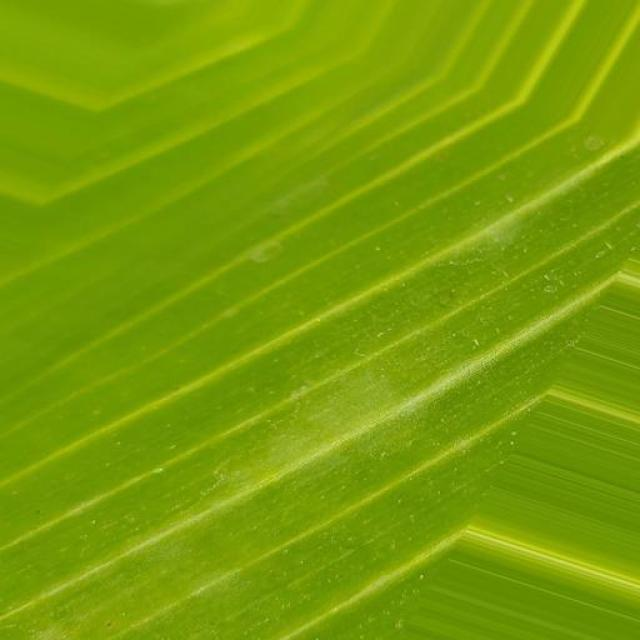Black_leaf_spot: (0, 0, 609, 578)
